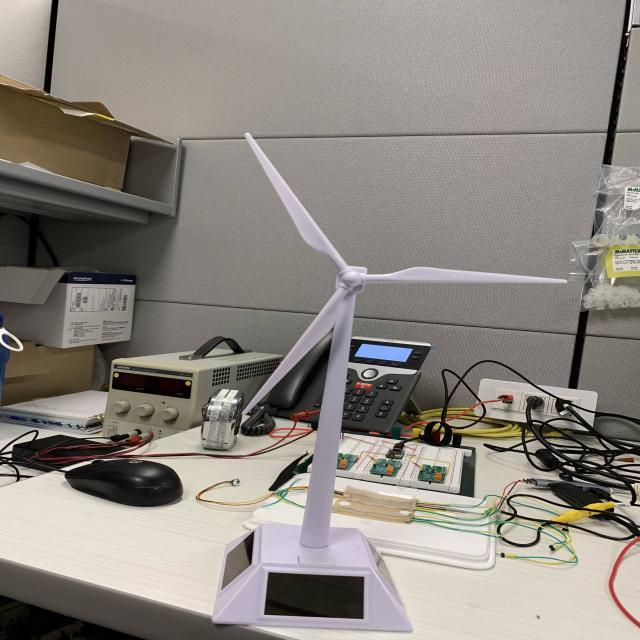solid-blade: (245, 132, 348, 271), (244, 287, 349, 413), (366, 266, 565, 283)
